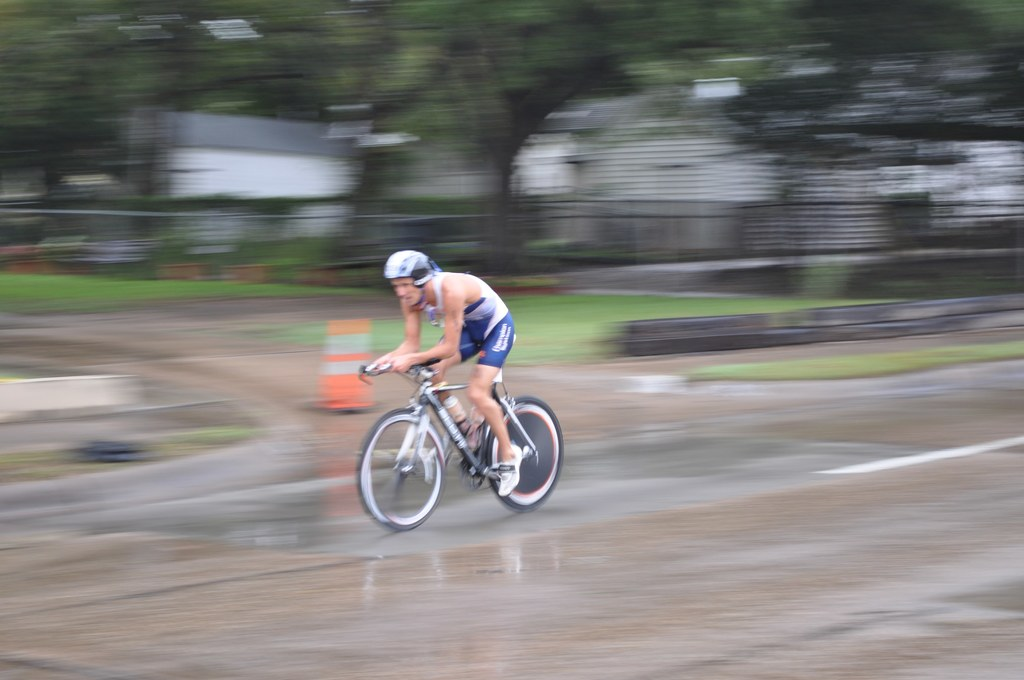Bike: (354, 334, 569, 532)
